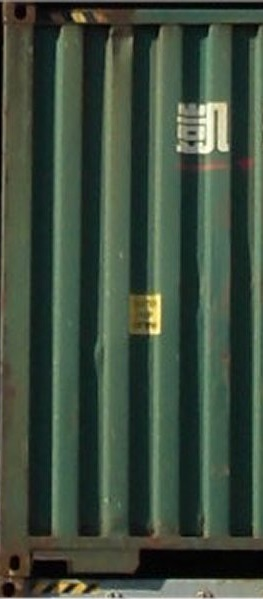container_no_door: (5, 10, 256, 576)
